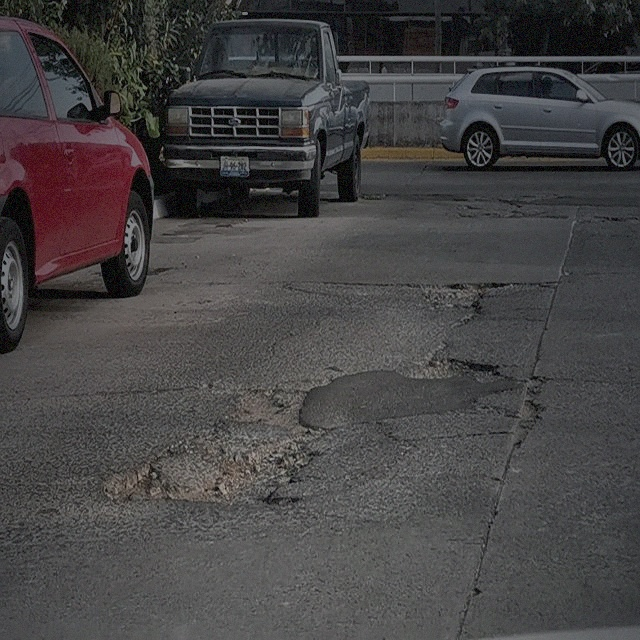pothole: (167, 433, 300, 513), (230, 388, 318, 437), (422, 273, 512, 308), (401, 355, 501, 383), (100, 467, 168, 504), (512, 375, 547, 446)
